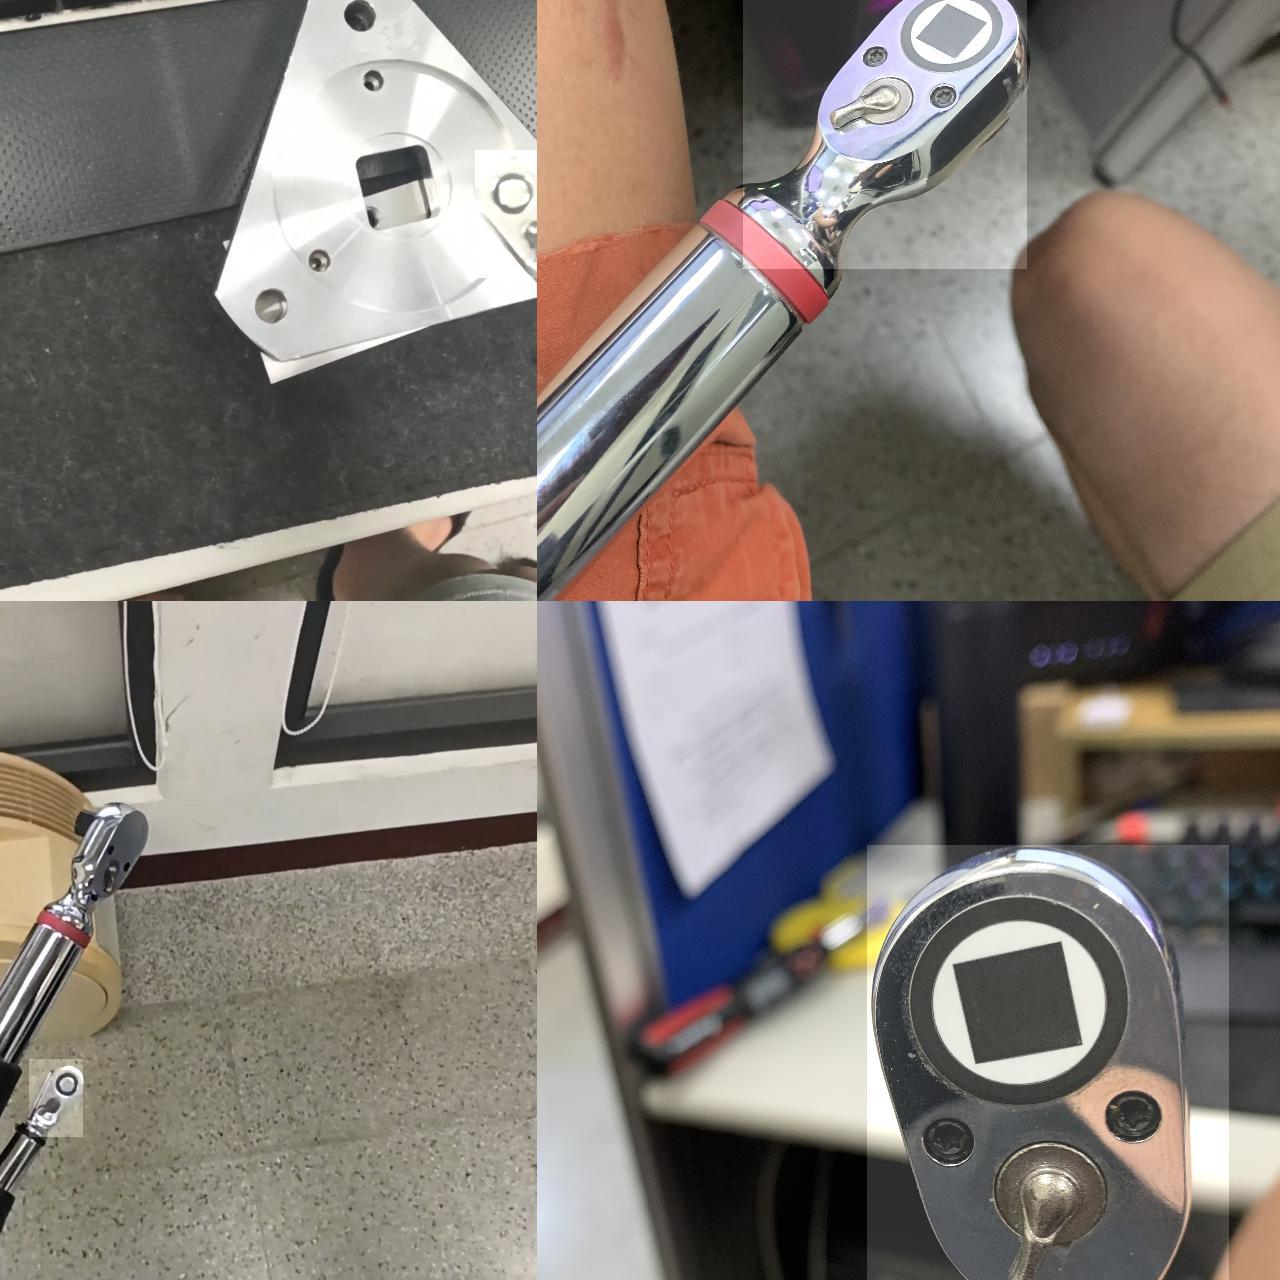Tool: (866, 844, 1228, 1280), (742, 0, 1026, 268), (61, 795, 143, 918), (474, 149, 537, 277), (28, 1058, 82, 1136)
